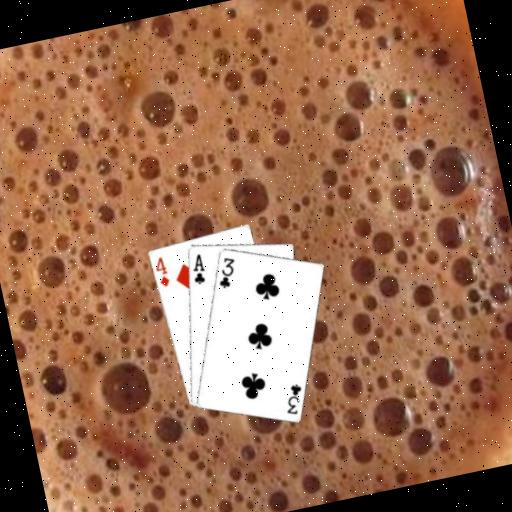3C: (211, 251, 242, 290), (278, 379, 308, 417)
4D: (150, 253, 172, 289)
AC: (185, 250, 209, 287)
